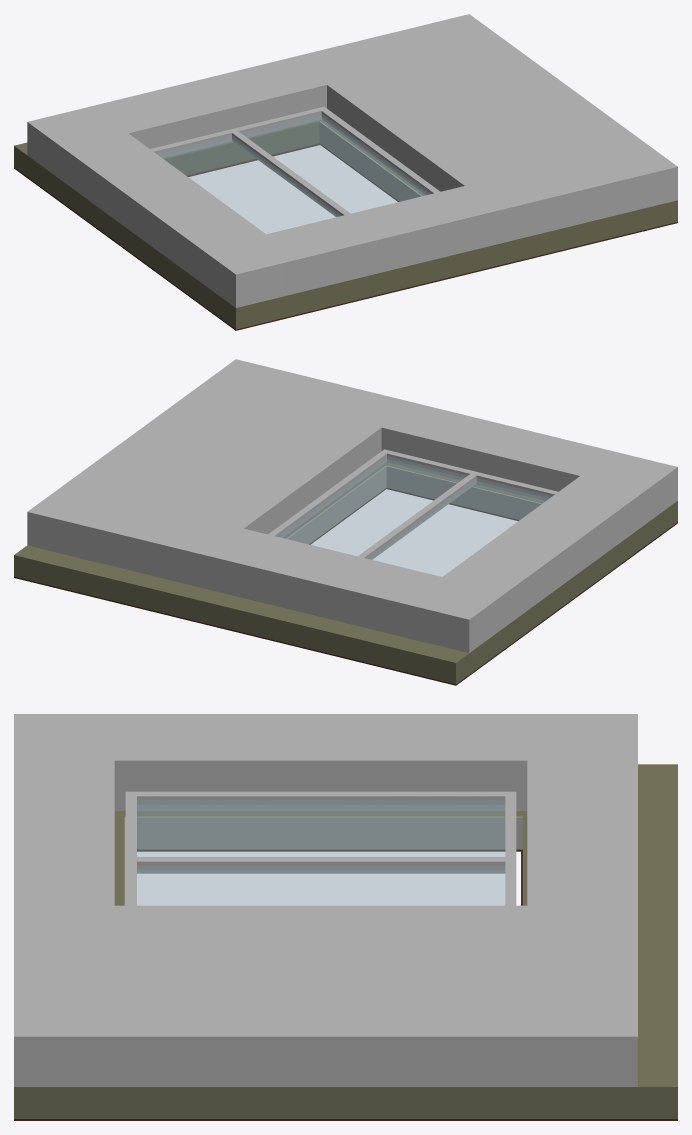
The model's file is fixed-scaling.glb.
3 views of the same model, one above another, from view 1: azimuth 30°, elevation 25°; view 2: azimuth 150°, elevation 25°; view 3: azimuth 270°, elevation 25° (orthographic). The views are drawn at different scales.
Parts seen in each view (by area): view 1: id-729, id-103, id-174, id-175, id-186, id-105; view 2: id-729, id-103, id-174, id-175, id-186 (×2), id-105; view 3: id-729, id-103, id-174, id-175, id-186, id-105.
Boxes of the visible parts, <box> form: id-729: <box>27,14,677,307</box>; id-103: <box>14,120,677,329</box>; id-174: <box>157,113,430,233</box>; id-175: <box>150,106,440,216</box>; id-186: <box>319,121,422,201</box>; id-105: <box>14,143,677,330</box>; id-729: <box>27,359,677,653</box>; id-103: <box>14,462,677,684</box>; id-174: <box>277,456,551,576</box>; id-175: <box>268,449,558,559</box>; id-186 (×2): <box>286,465,541,544</box>; id-105: <box>14,488,677,685</box>; id-729: <box>14,714,637,1086</box>; id-103: <box>14,764,677,1118</box>; id-174: <box>137,800,504,905</box>; id-175: <box>125,791,516,905</box>; id-186: <box>125,816,522,849</box>; id-105: <box>14,849,677,1120</box>.
Size of the model in its own units: 3.45 by 0.42 by 3.
